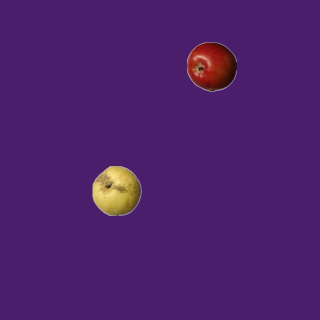Apple Braeburn: (186, 41, 236, 91)
Apple Golden 1: (91, 165, 141, 215)
